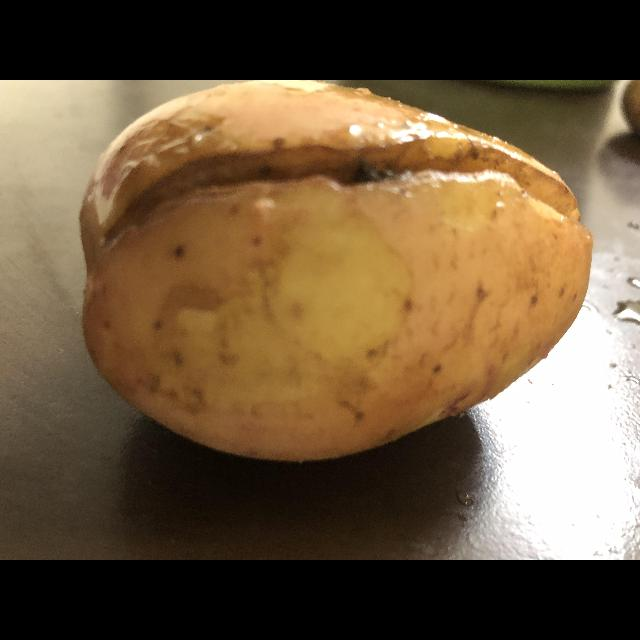Damaged potato: (77, 80, 586, 452)
